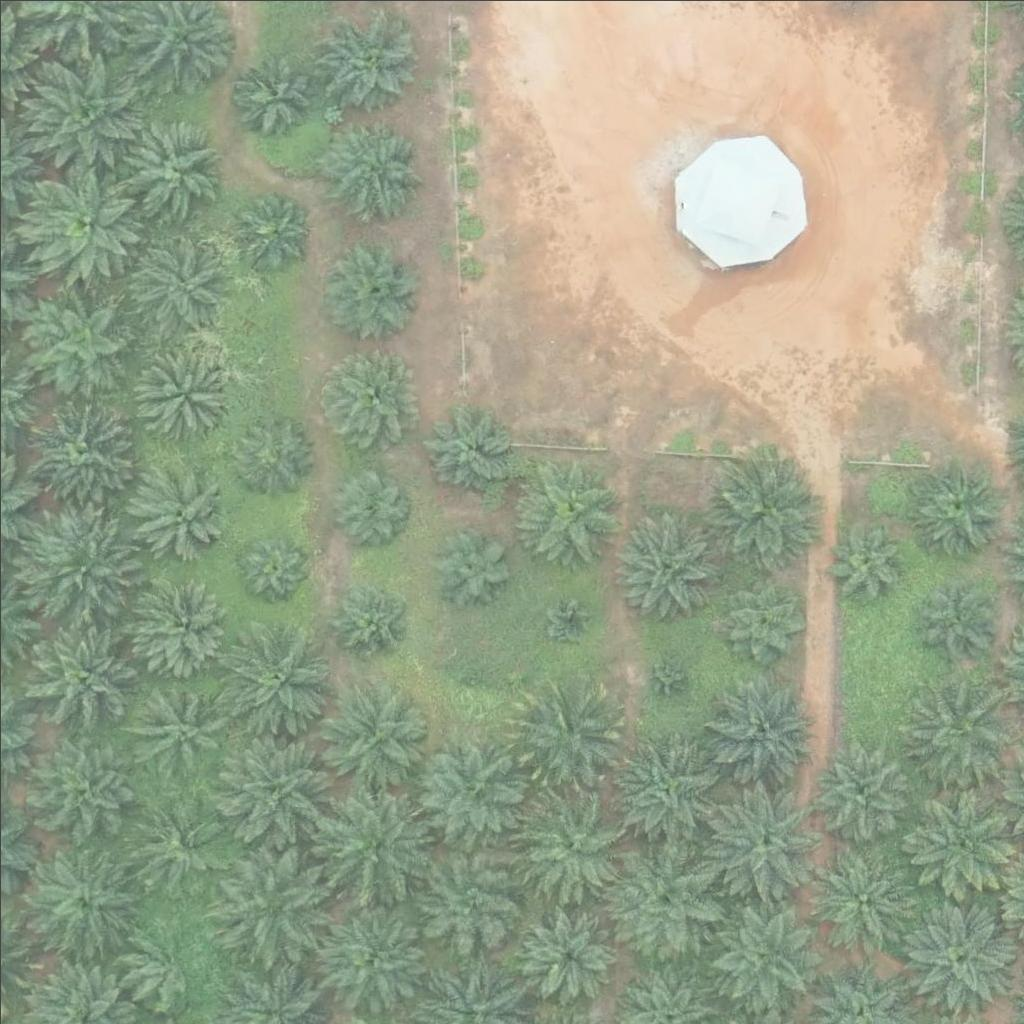Kelapa_Sawit: (220, 630, 333, 744), (317, 899, 430, 1013), (320, 789, 433, 903), (29, 844, 142, 957), (23, 727, 136, 840), (315, 680, 428, 793), (413, 840, 526, 953), (705, 896, 818, 1009), (705, 783, 818, 896), (702, 668, 815, 781), (807, 847, 920, 960), (702, 455, 815, 568), (21, 509, 134, 622), (20, 392, 133, 505), (24, 615, 136, 729), (217, 849, 329, 963), (215, 732, 327, 846), (511, 454, 623, 568), (26, 51, 138, 165), (512, 679, 624, 792), (409, 733, 521, 846), (514, 789, 626, 902), (614, 843, 726, 956), (610, 736, 722, 849), (902, 899, 1014, 1012), (897, 787, 1009, 900), (898, 680, 1010, 793), (610, 505, 722, 618), (26, 283, 138, 396), (27, 162, 139, 275), (517, 904, 617, 1005), (808, 739, 908, 840), (325, 120, 425, 221), (133, 571, 233, 672), (127, 459, 227, 560), (132, 341, 232, 442), (317, 9, 417, 110), (129, 796, 229, 896), (125, 677, 225, 777), (315, 347, 415, 447), (320, 240, 420, 340), (122, 228, 222, 328), (120, 115, 220, 215), (911, 461, 999, 550), (124, 918, 212, 1006), (418, 407, 506, 495), (716, 572, 803, 660), (425, 522, 512, 610), (326, 572, 413, 660), (329, 463, 416, 551), (227, 408, 314, 496), (229, 52, 316, 140), (915, 574, 990, 650), (234, 192, 309, 268), (829, 524, 904, 599), (236, 529, 311, 604), (638, 651, 688, 702), (544, 595, 594, 646), (447, 659, 497, 709)
